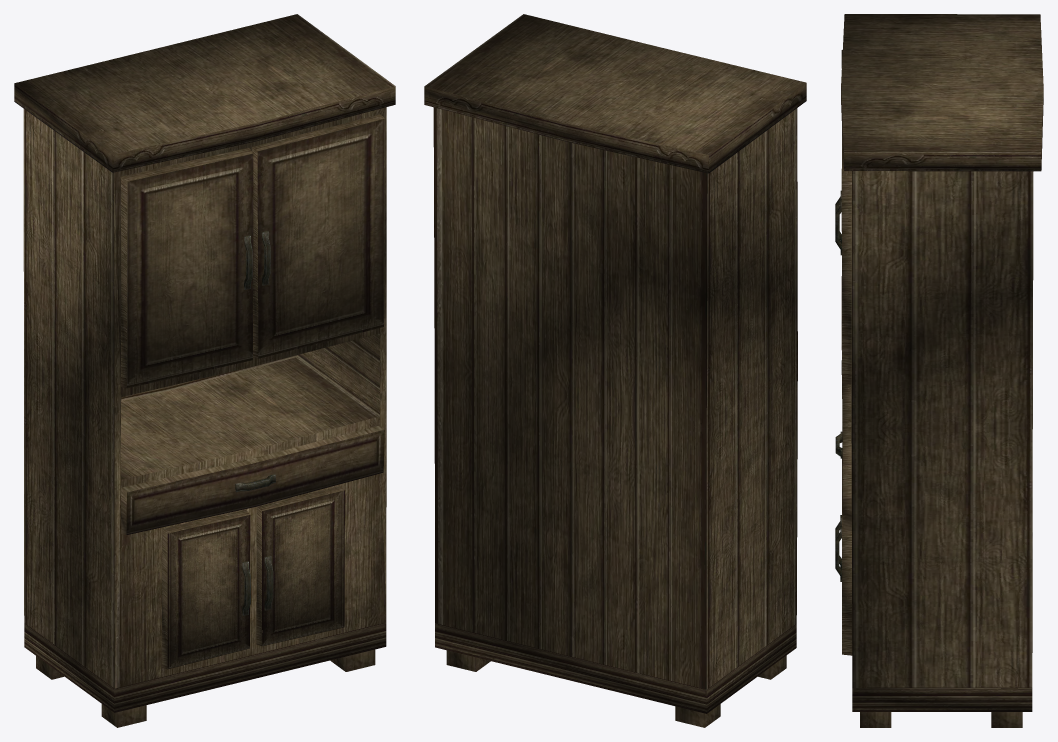
The model's file is GS_VOB_WARDROBE_BROWN_01_KOZA.glb.
3 renders of one model, left to right at view 1: azimuth 30°, elevation 25°; view 2: azimuth 150°, elevation 25°; view 3: azimuth 270°, elevation 25°, orthographic.
Visible parts, largest first — view 1: Mesh; view 2: Mesh; view 3: Mesh.
Boxes of the visible parts, x1,y1,x2,y2 form: Mesh: (14, 14, 395, 727); Mesh: (424, 14, 806, 727); Mesh: (835, 14, 1043, 727).
Bounding box in the file's own units: 1.48 × 2.91 × 0.9415.
Materials: 3 (3 with a texture image).
